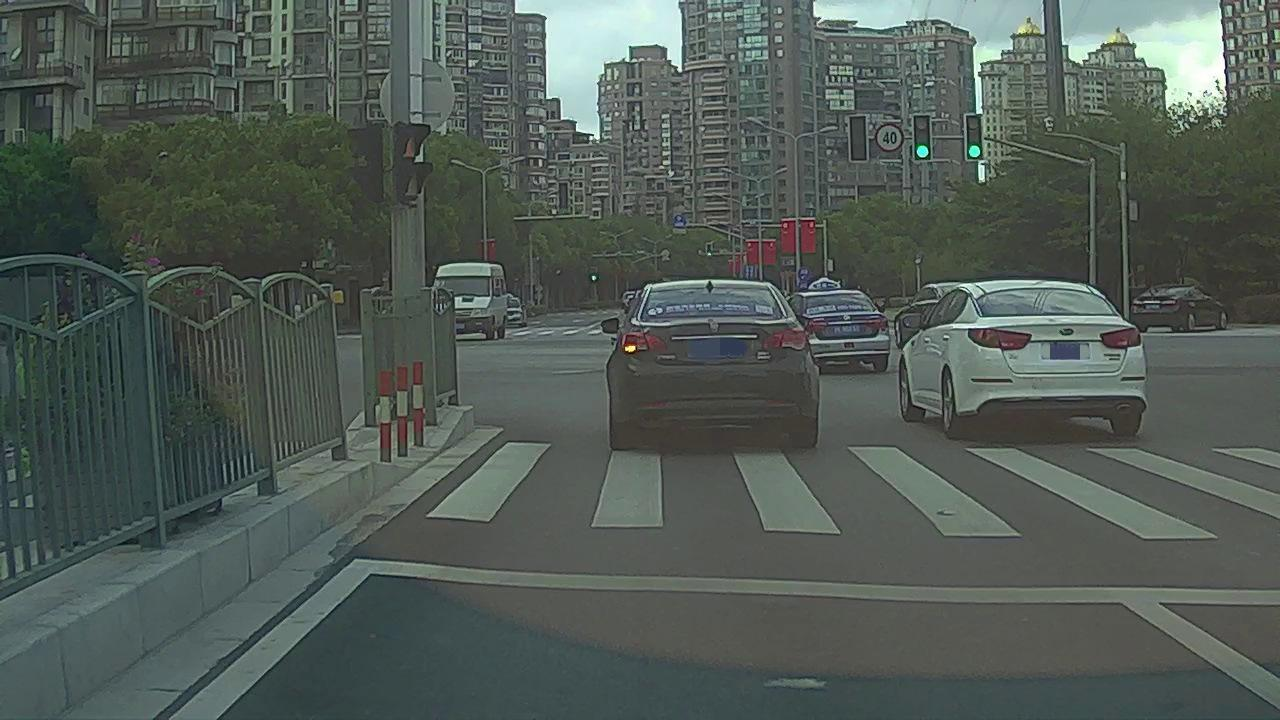traffic_light: (966, 115, 983, 160), (850, 118, 867, 162), (915, 115, 931, 159)
